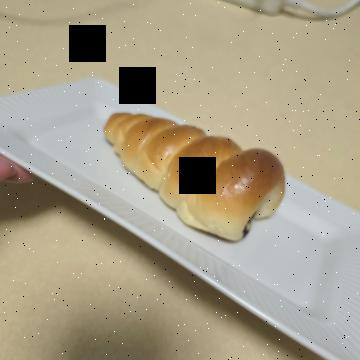cream horn: (88, 66, 251, 280)
